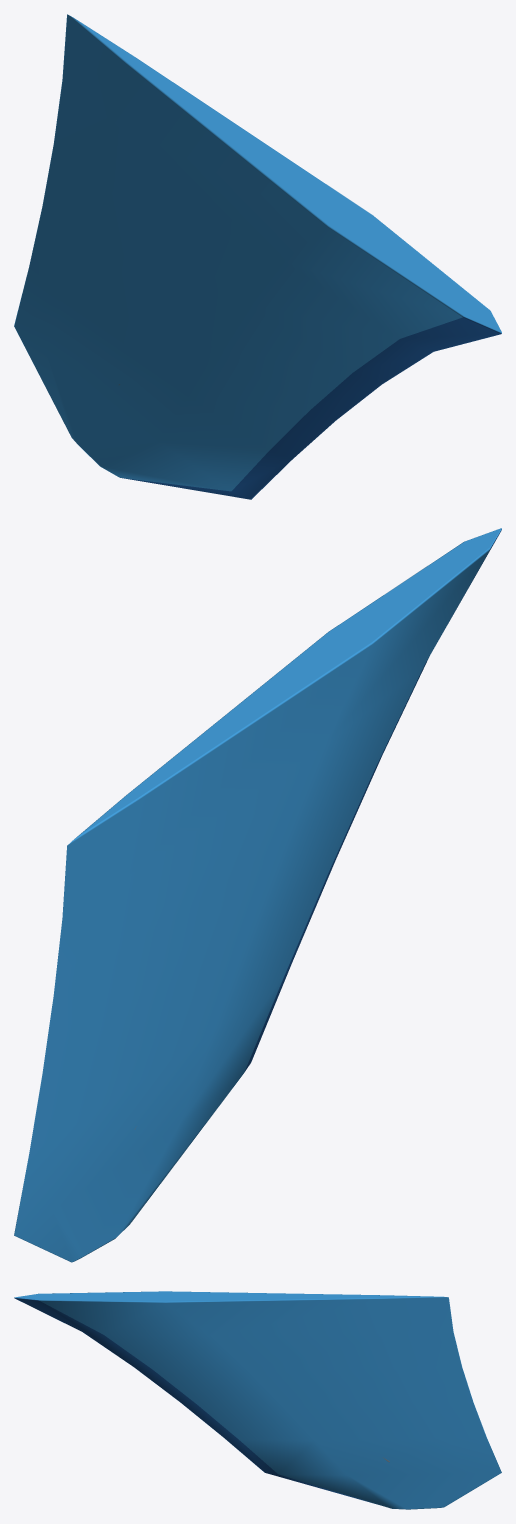
File: strix_tail_compact.fbx
3 renders of one model, top to bottom at view 1: azimuth 30°, elevation 25°; view 2: azimuth 150°, elevation 25°; view 3: azimuth 270°, elevation 25°, orthographic. The views are drawn at different scales.
Visible parts, largest first — view 1: Tail_Compact; view 2: Tail_Compact; view 3: Tail_Compact.
Boxes of the visible parts, left/top/right/bottom form: Tail_Compact: left=14, top=14, right=501, bottom=499; Tail_Compact: left=14, top=528, right=501, bottom=1262; Tail_Compact: left=14, top=1291, right=501, bottom=1509.
Bounding box in the file's own units: 4.49 × 40 × 83.66.
